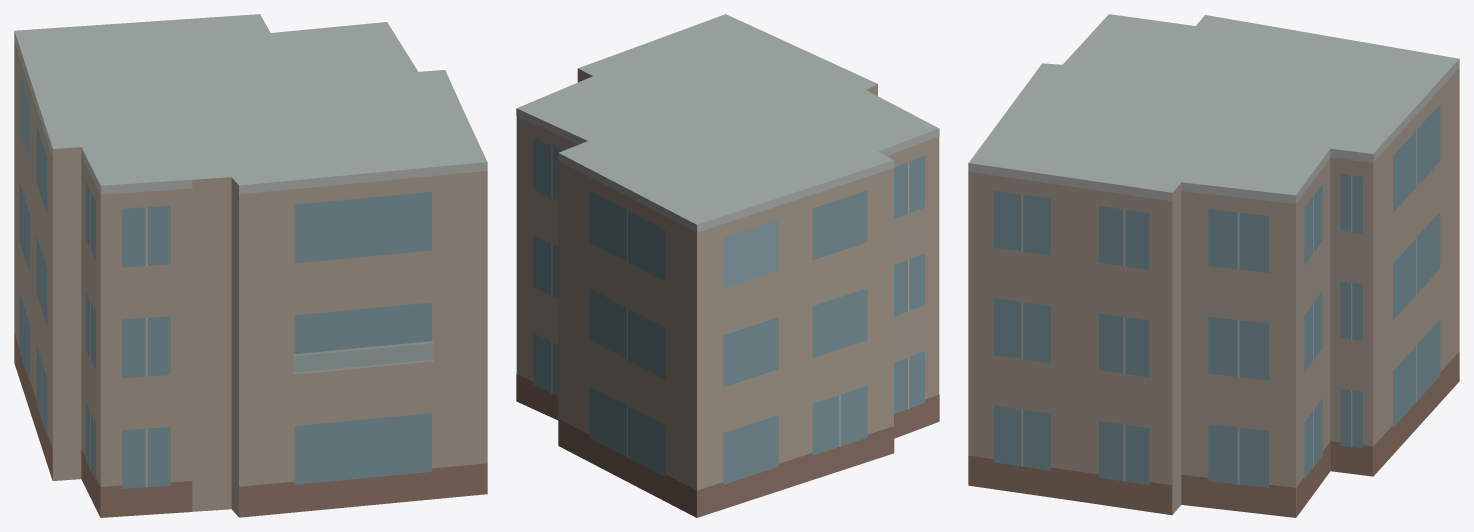
Rendered from survey-upis-32507516.glb.
3 views of the same model, side by side, from view 1: azimuth 30°, elevation 25°; view 2: azimuth 150°, elevation 25°; view 3: azimuth 270°, elevation 25° (orthographic). The views are drawn at different scales.
Parts seen in each view (by area): view 1: survey-upis-32507516.tmp; view 2: survey-upis-32507516.tmp; view 3: survey-upis-32507516.tmp.
Part boxes in pixels (box(x1,y1,x2,y2)): survey-upis-32507516.tmp: box(14, 14, 487, 517); survey-upis-32507516.tmp: box(516, 14, 939, 517); survey-upis-32507516.tmp: box(968, 14, 1459, 517).
Size of the model in its own units: 11.05 by 9.15 by 12.64.
